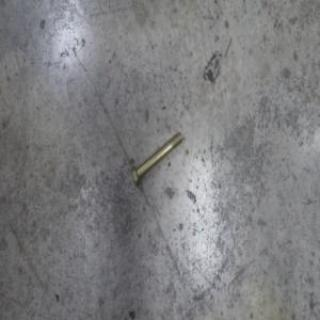Bolttrack_idkeyframe: (129, 128, 183, 189)
